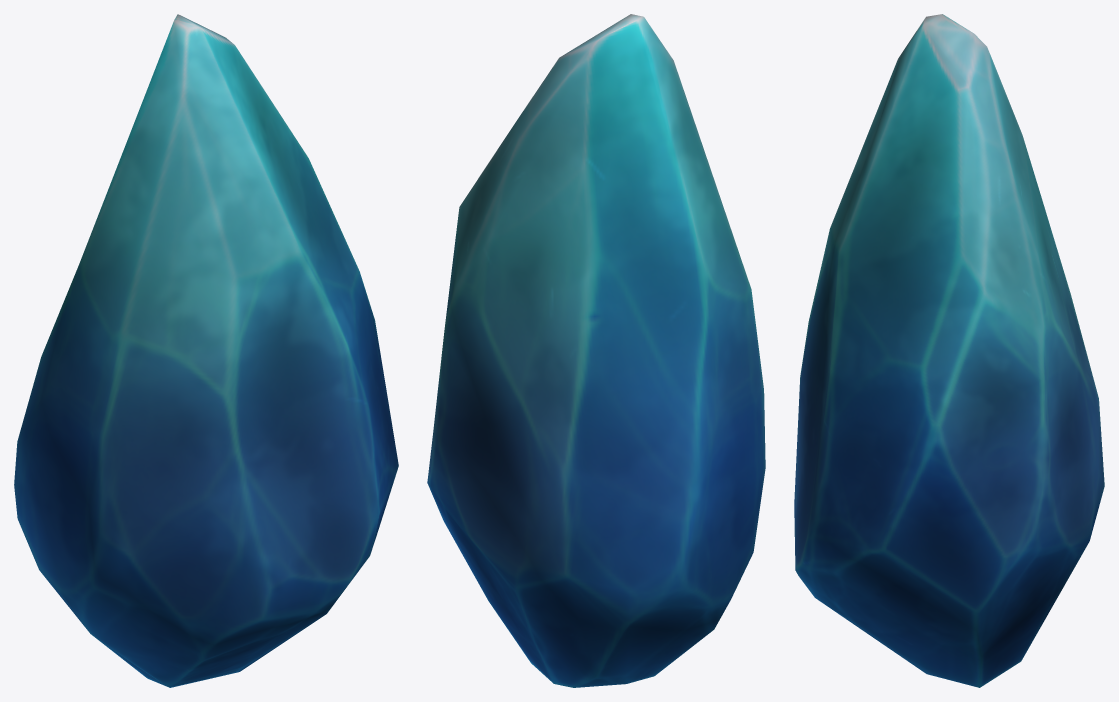
File: SM_Gem_IceCrystal_008.fbx
The picture shows the model from 3 angles, left to right: view 1: azimuth 30°, elevation 25°; view 2: azimuth 150°, elevation 25°; view 3: azimuth 270°, elevation 25°; orthographic projection. The views are drawn at different scales.
Visible parts, largest first — view 1: SM_Gem_IceCrystal_008; view 2: SM_Gem_IceCrystal_008; view 3: SM_Gem_IceCrystal_008.
Boxes of the visible parts, box(x1,y1,x2,y2) form: SM_Gem_IceCrystal_008: box(14, 14, 398, 687); SM_Gem_IceCrystal_008: box(427, 14, 765, 687); SM_Gem_IceCrystal_008: box(794, 14, 1104, 687).
Size of the model in its own units: 26.17 by 54.04 by 24.01.
